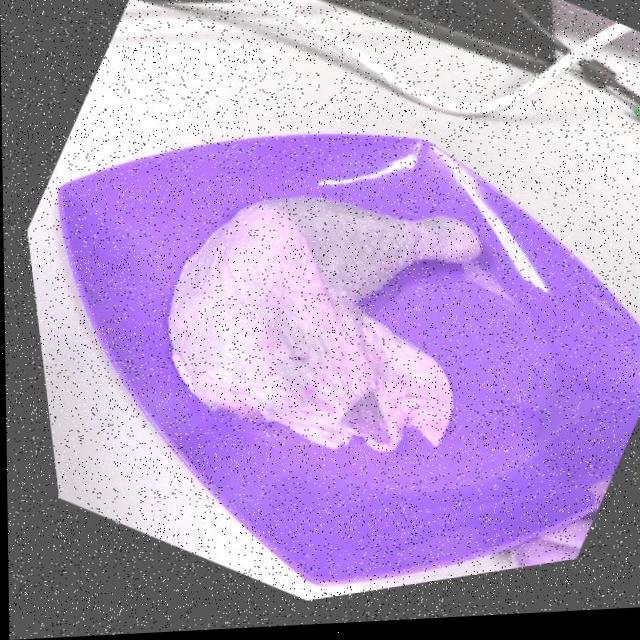quater: (167, 189, 478, 466)
